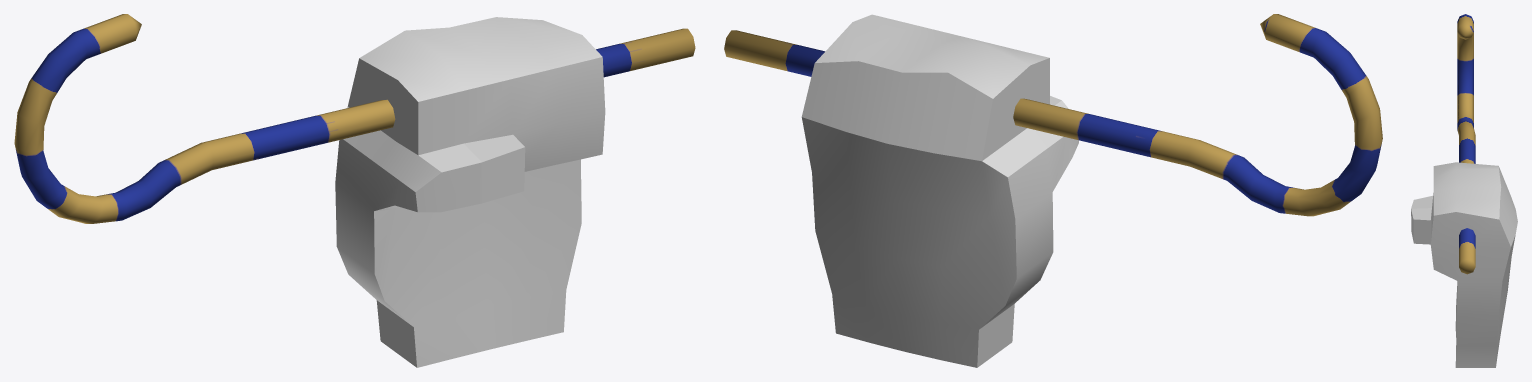
The model's file is mano_sx.fbx.
The picture shows the model from 3 angles, left to right: view 1: azimuth 30°, elevation 25°; view 2: azimuth 150°, elevation 25°; view 3: azimuth 270°, elevation 25°; orthographic projection. The views are drawn at different scales.
Parts seen in each view (by area): view 1: Mano_dx.001, Bacchetta_uncino; view 2: Mano_dx.001, Bacchetta_uncino; view 3: Mano_dx.001, Bacchetta_uncino.
Part boxes in pixels (x1,y1,x2,y2): Mano_dx.001: (335, 17, 605, 367); Bacchetta_uncino: (14, 14, 695, 223); Mano_dx.001: (801, 14, 1078, 367); Bacchetta_uncino: (724, 14, 1382, 216); Mano_dx.001: (1411, 162, 1517, 367); Bacchetta_uncino: (1457, 14, 1475, 274).
Bounding box in the file's own units: 420 × 248 × 105.
2 materials, 1 textured.
